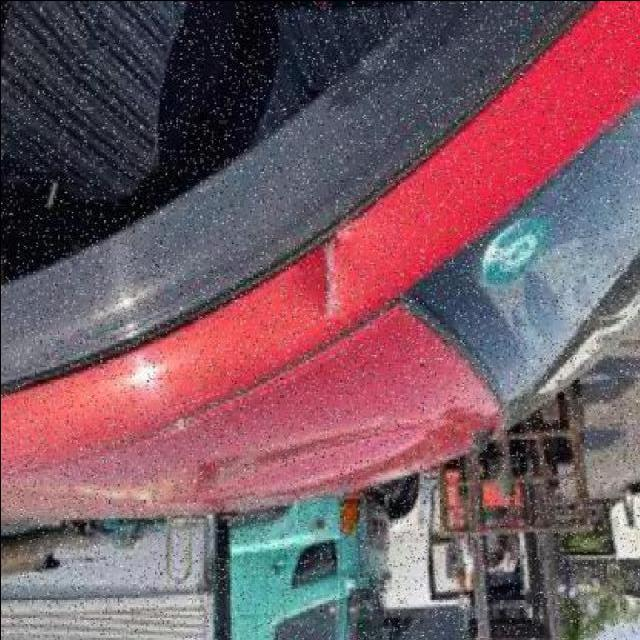roof-dent: (29, 206, 489, 520)
